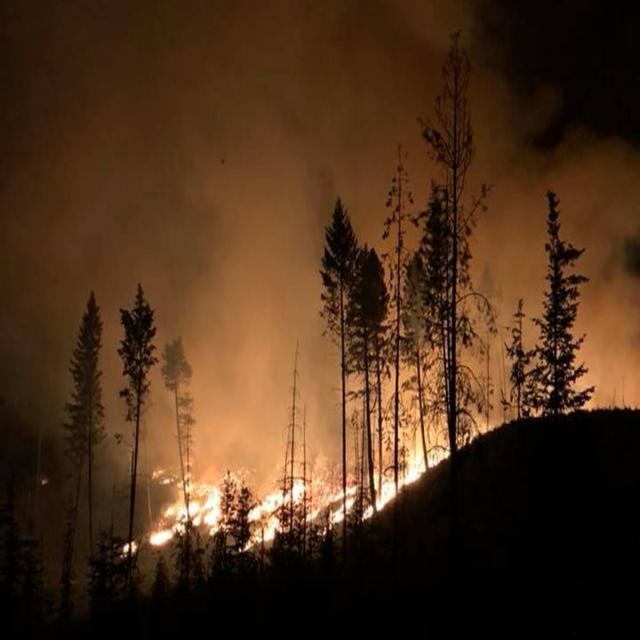Smoke: (0, 3, 638, 621)
